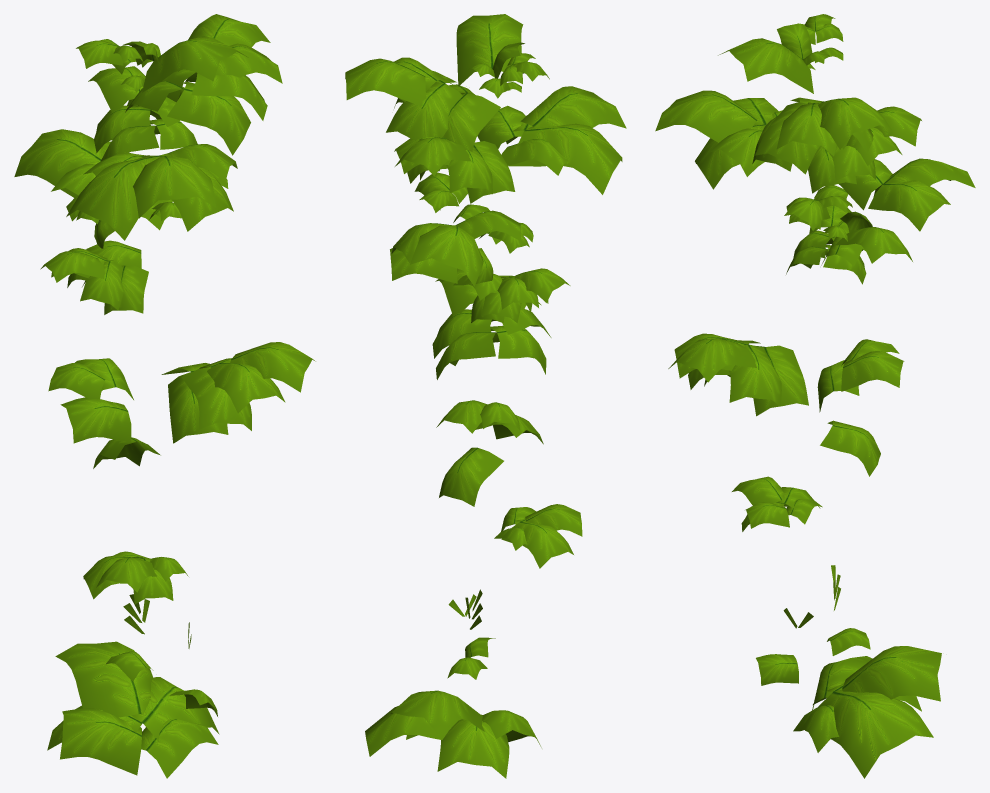
The model's file is BambooSet_part_14.fbx.
3 views of the same model, side by side, from view 1: azimuth 30°, elevation 25°; view 2: azimuth 150°, elevation 25°; view 3: azimuth 270°, elevation 25° (orthographic). The views are drawn at different scales.
Visible parts, largest first — view 1: Object_35.001; view 2: Object_35.001; view 3: Object_35.001.
Part boxes in pixels (bbox=[...]): Object_35.001: bbox=[14, 14, 315, 778]; Object_35.001: bbox=[345, 14, 626, 778]; Object_35.001: bbox=[655, 14, 975, 778].
Size of the model in its own units: 1130 by 3380 by 1401.
